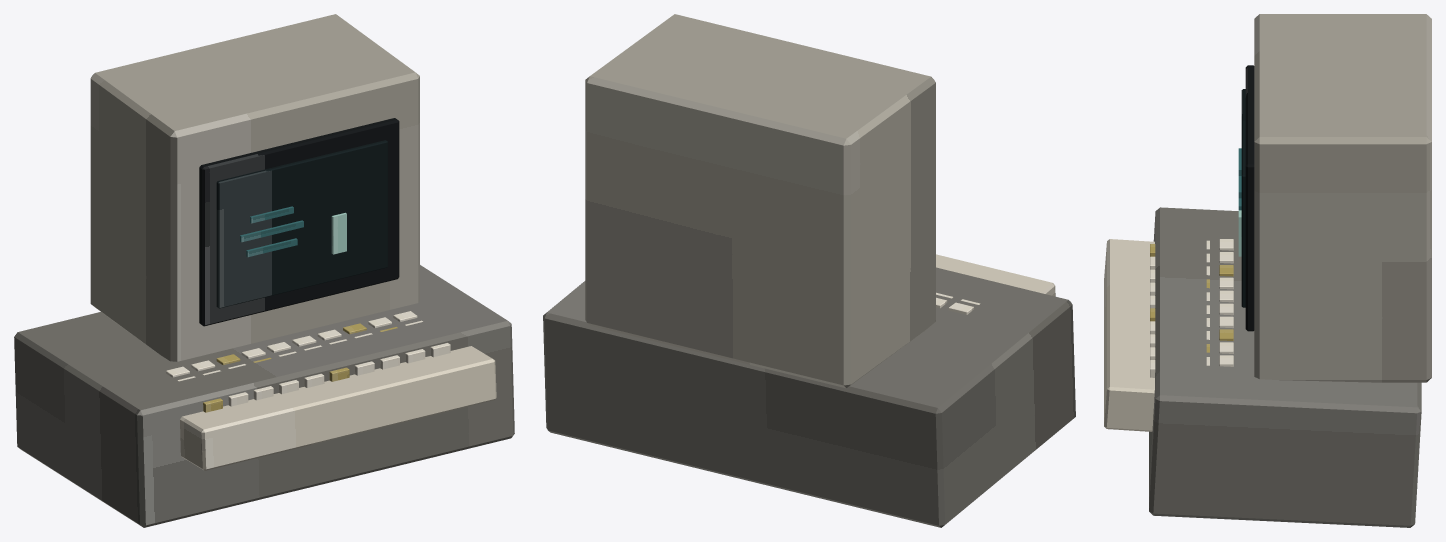
The model's file is retro_computer_terminal_ivory.glb.
3 renders of one model, left to right at view 1: azimuth 30°, elevation 25°; view 2: azimuth 150°, elevation 25°; view 3: azimuth 270°, elevation 25°, orthographic. The views are drawn at different scales.
Visible parts, largest first — view 1: MonitorShell, TerminalWedge, MonitorGlow, KeyboardBody, MonitorFace, ScreenGlyph_4; view 2: MonitorShell, TerminalWedge, KeyboardBody; view 3: MonitorShell, TerminalWedge, KeyboardBody, MonitorFace, MonitorGlow.
Part boxes in pixels (left/top/right/bottom): MonitorShell: left=90, top=14, right=419, bottom=361; TerminalWedge: left=14, top=265, right=514, bottom=527; MonitorGlow: left=216, top=140, right=387, bottom=308; KeyboardBody: left=180, top=346, right=496, bottom=470; MonitorFace: left=199, top=118, right=399, bottom=326; ScreenGlyph_4: left=331, top=212, right=346, bottom=254; MonitorShell: left=585, top=14, right=935, bottom=388; TerminalWedge: left=543, top=267, right=1075, bottom=527; KeyboardBody: left=936, top=254, right=1055, bottom=296; MonitorShell: left=1254, top=14, right=1431, bottom=382; TerminalWedge: left=1149, top=207, right=1421, bottom=527; KeyboardBody: left=1104, top=239, right=1154, bottom=431; MonitorFace: left=1245, top=65, right=1254, bottom=331; MonitorGlow: left=1241, top=89, right=1245, bottom=307.
Size of the model in its own units: 1.02 by 0.914 by 0.7379.
1 material, 1 textured.
